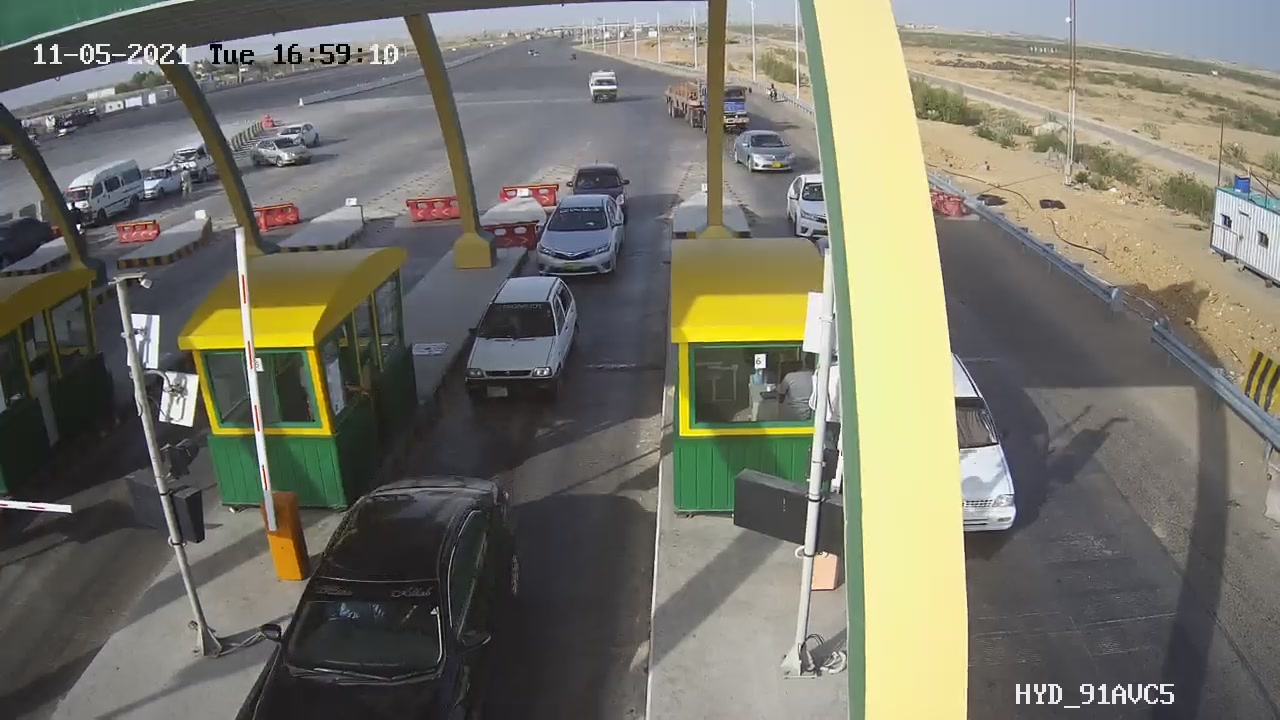F1: (445, 266, 591, 411), (522, 188, 637, 293)
